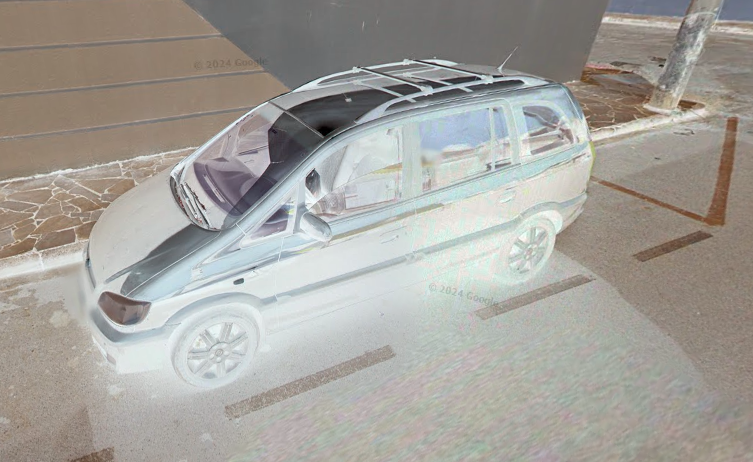car: (78, 60, 603, 394)
